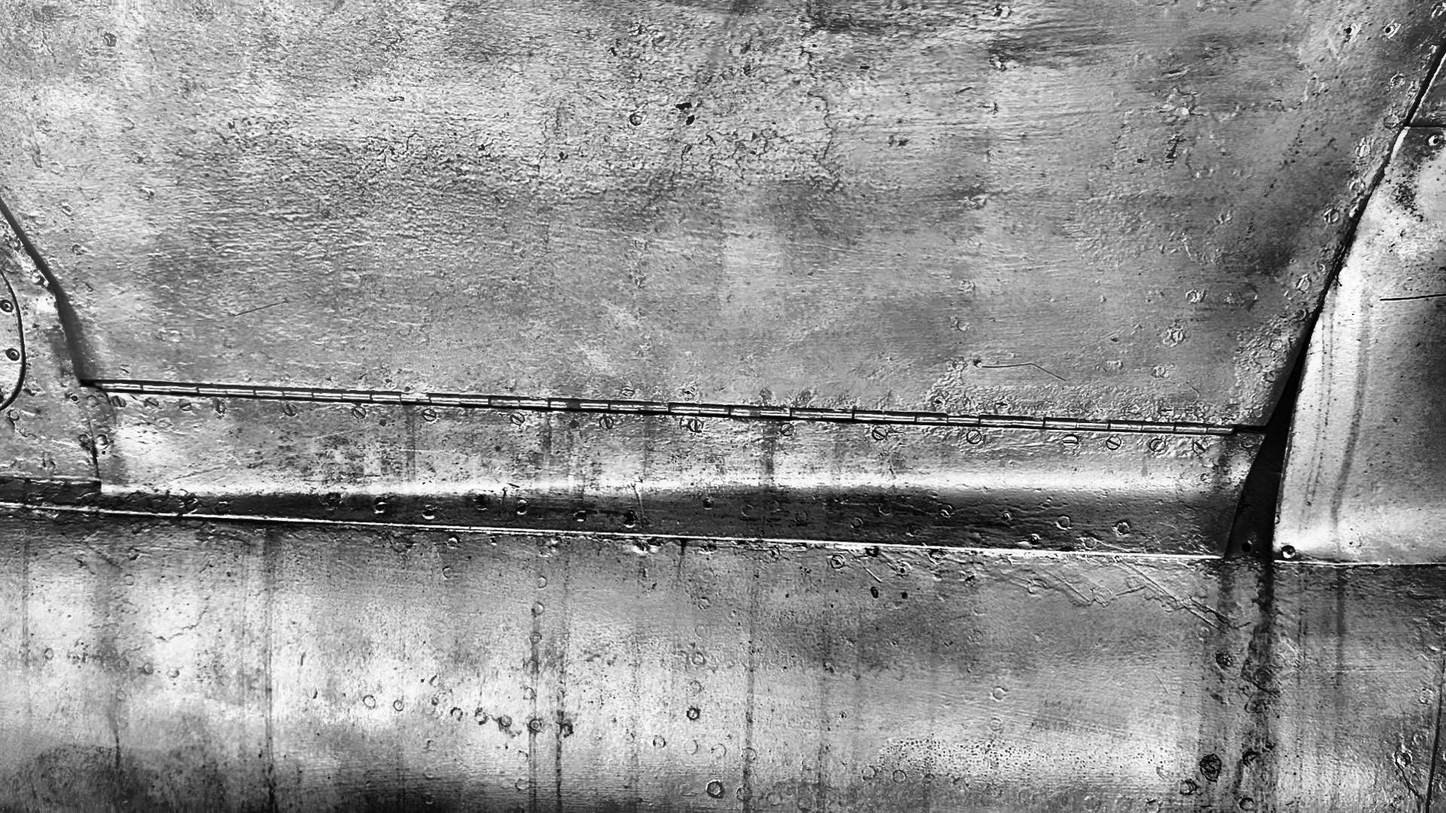dent: (30, 288, 62, 327)
missing-head: (1345, 27, 1354, 35), (1385, 26, 1394, 34)
paint-peel-off: (676, 102, 691, 110), (686, 115, 695, 126)
scratch: (1122, 562, 1229, 635), (981, 363, 1067, 383), (1047, 572, 1092, 603), (232, 300, 288, 318), (632, 484, 647, 530), (1380, 293, 1446, 301), (1116, 586, 1147, 597)
